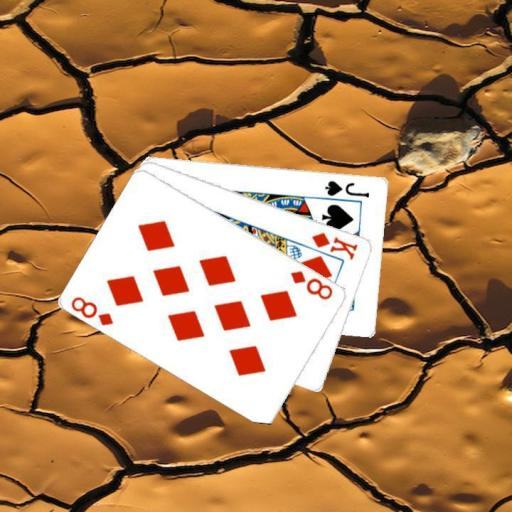card-corner: (287, 266, 335, 302), (308, 229, 360, 261), (68, 293, 115, 327), (322, 177, 371, 198)
